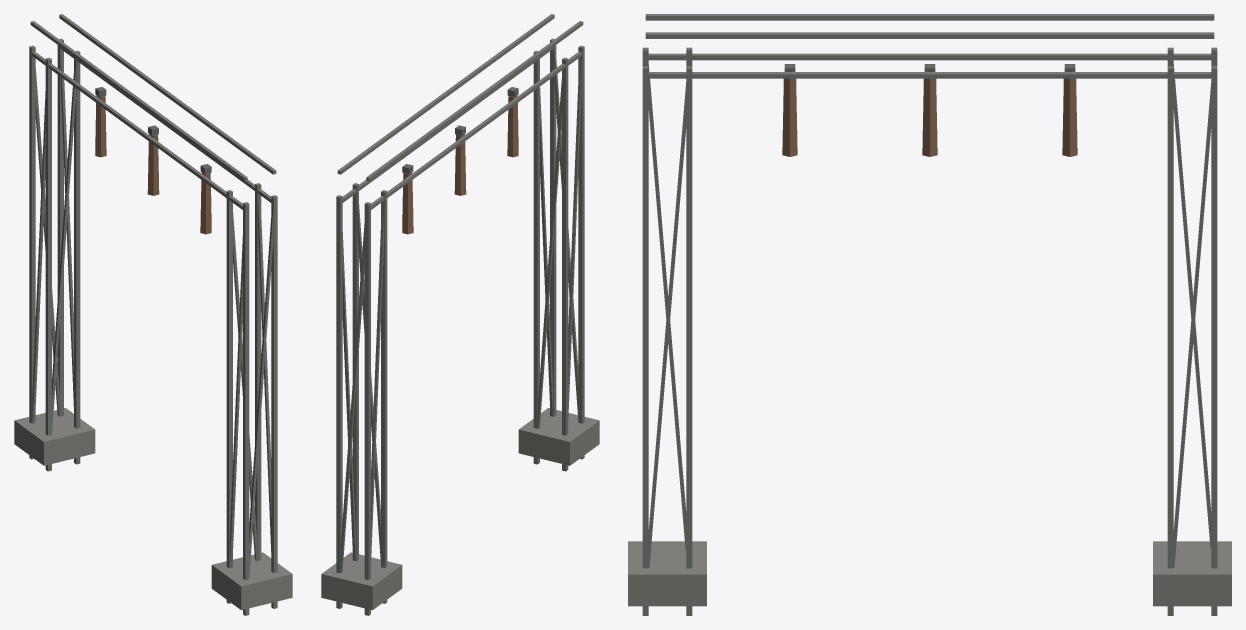
File: SM_Prop_power_gantry_0_LOD1.glb
3 views of the same model, side by side, from view 1: azimuth 30°, elevation 25°; view 2: azimuth 150°, elevation 25°; view 3: azimuth 270°, elevation 25° (orthographic). The views are drawn at different scales.
Parts seen in each view (by area): view 1: SM_Prop_power_gantry_0_LOD1; view 2: SM_Prop_power_gantry_0_LOD1; view 3: SM_Prop_power_gantry_0_LOD1.
Part boxes in pixels (x1,y1,x2,y2): SM_Prop_power_gantry_0_LOD1: [14, 14, 292, 615]; SM_Prop_power_gantry_0_LOD1: [321, 14, 599, 615]; SM_Prop_power_gantry_0_LOD1: [628, 14, 1231, 615].
Bounding box in the file's own units: 0.9 × 7.33 × 6.9.
